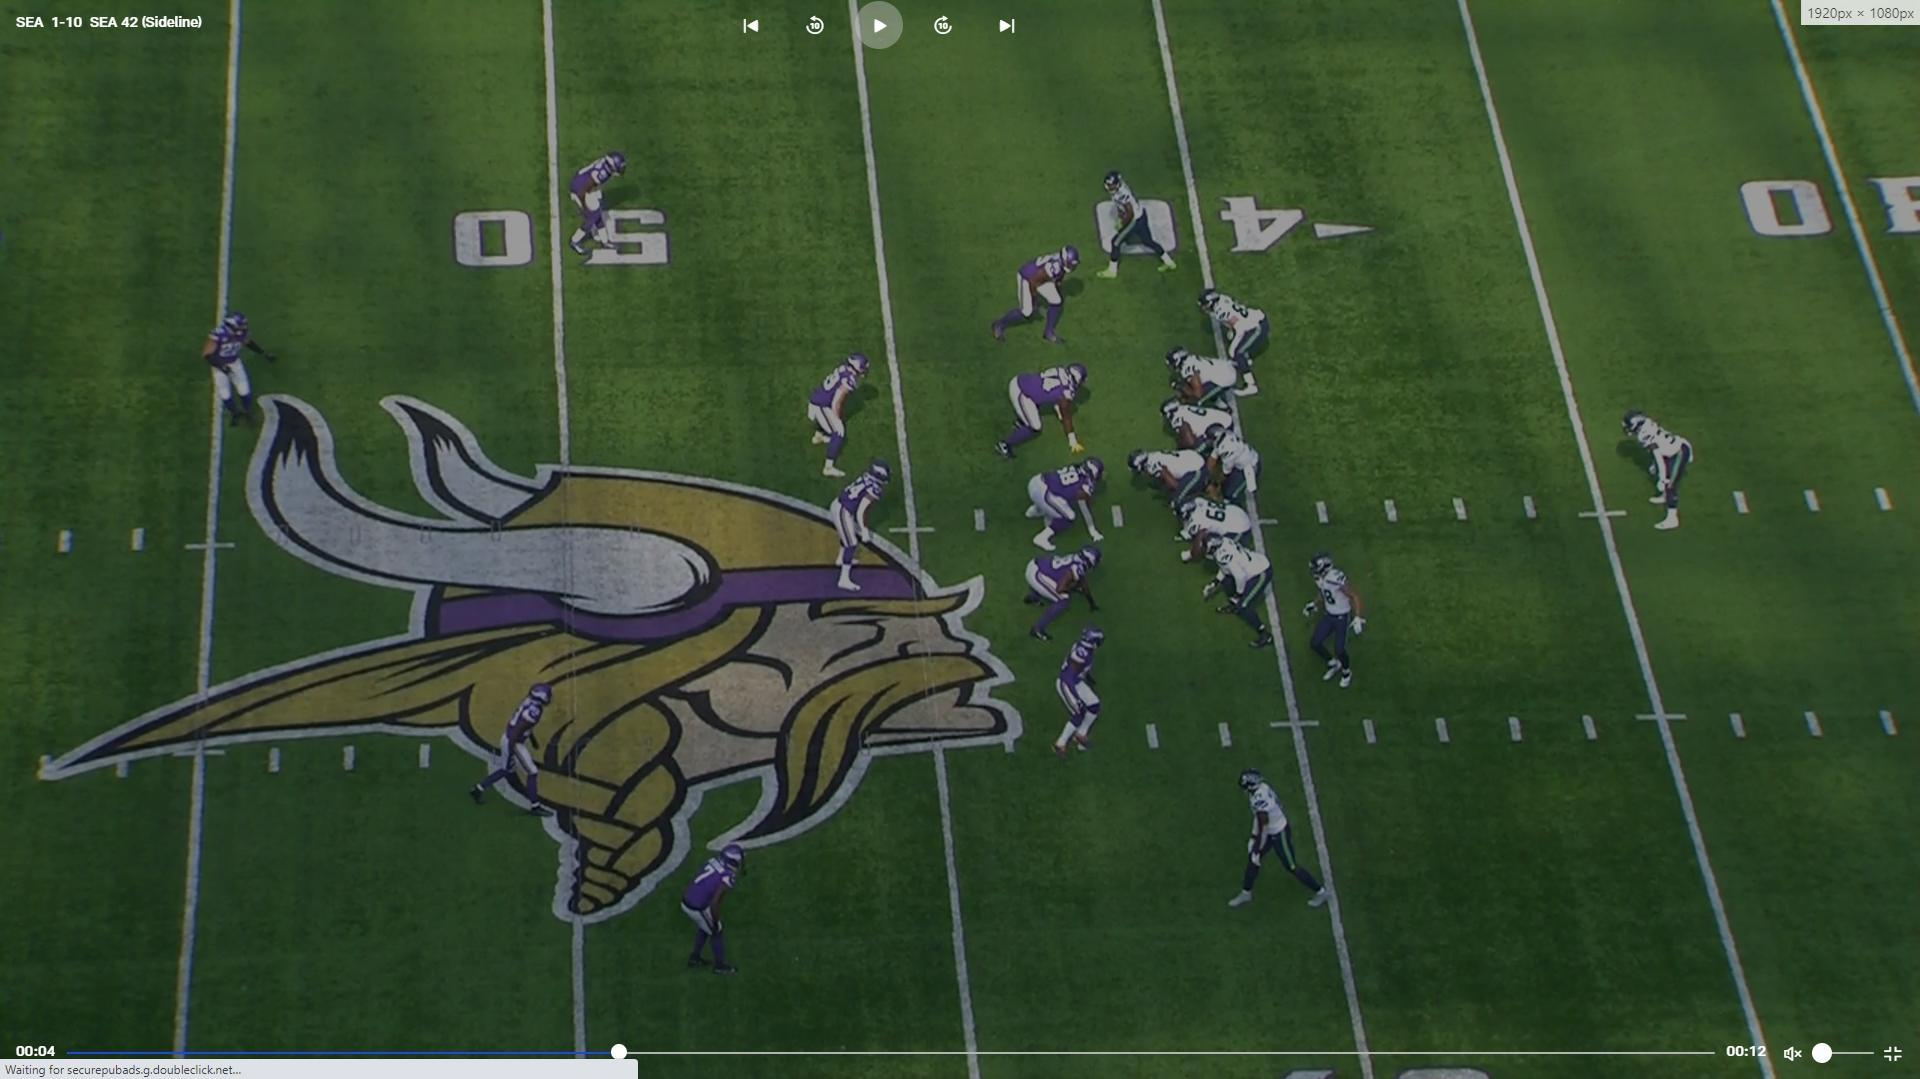defense: (465, 679, 551, 817), (986, 244, 1087, 351), (676, 840, 746, 987), (997, 363, 1095, 464), (825, 454, 895, 592), (807, 346, 877, 483), (1019, 455, 1109, 555), (1022, 545, 1112, 642), (1050, 619, 1110, 755), (206, 311, 274, 431), (571, 145, 633, 256)
oline: (1201, 529, 1280, 645), (1129, 447, 1218, 524), (1180, 491, 1266, 565), (1159, 346, 1242, 416), (1155, 400, 1241, 459)
qb: (1207, 426, 1270, 518)
skill: (1226, 768, 1336, 915), (1621, 406, 1702, 536), (1095, 169, 1185, 282), (1299, 551, 1367, 696), (1200, 288, 1278, 404)
